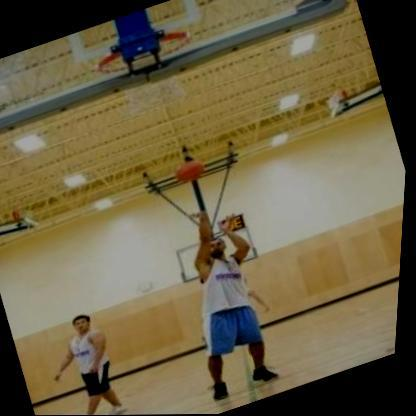basketball: (169, 153, 210, 191)
